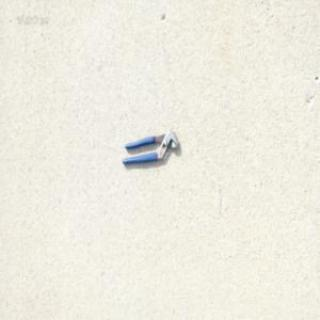Pliertrack_idkeyframe: (120, 128, 179, 166)
